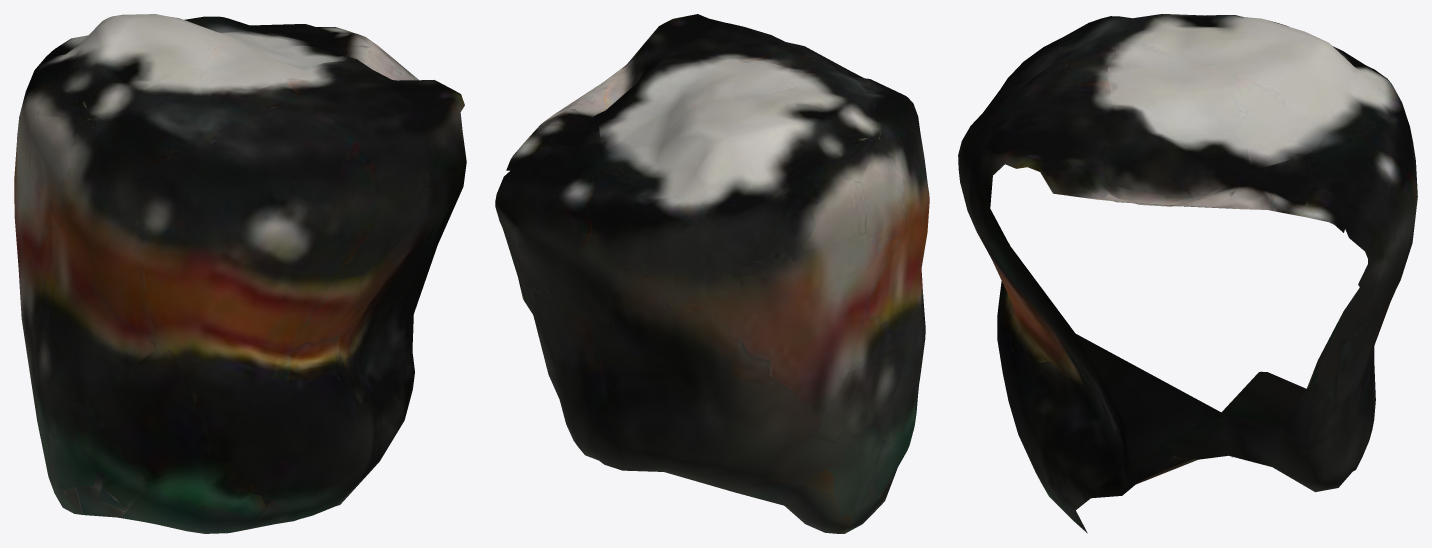
Rendered from hall.glb.
3 views of the same model, side by side, from view 1: azimuth 30°, elevation 25°; view 2: azimuth 150°, elevation 25°; view 3: azimuth 270°, elevation 25° (orthographic). The views are drawn at different scales.
Bounding box in the file's own units: 0.2325 × 0.2807 × 0.2597.
1 material, 1 textured.
